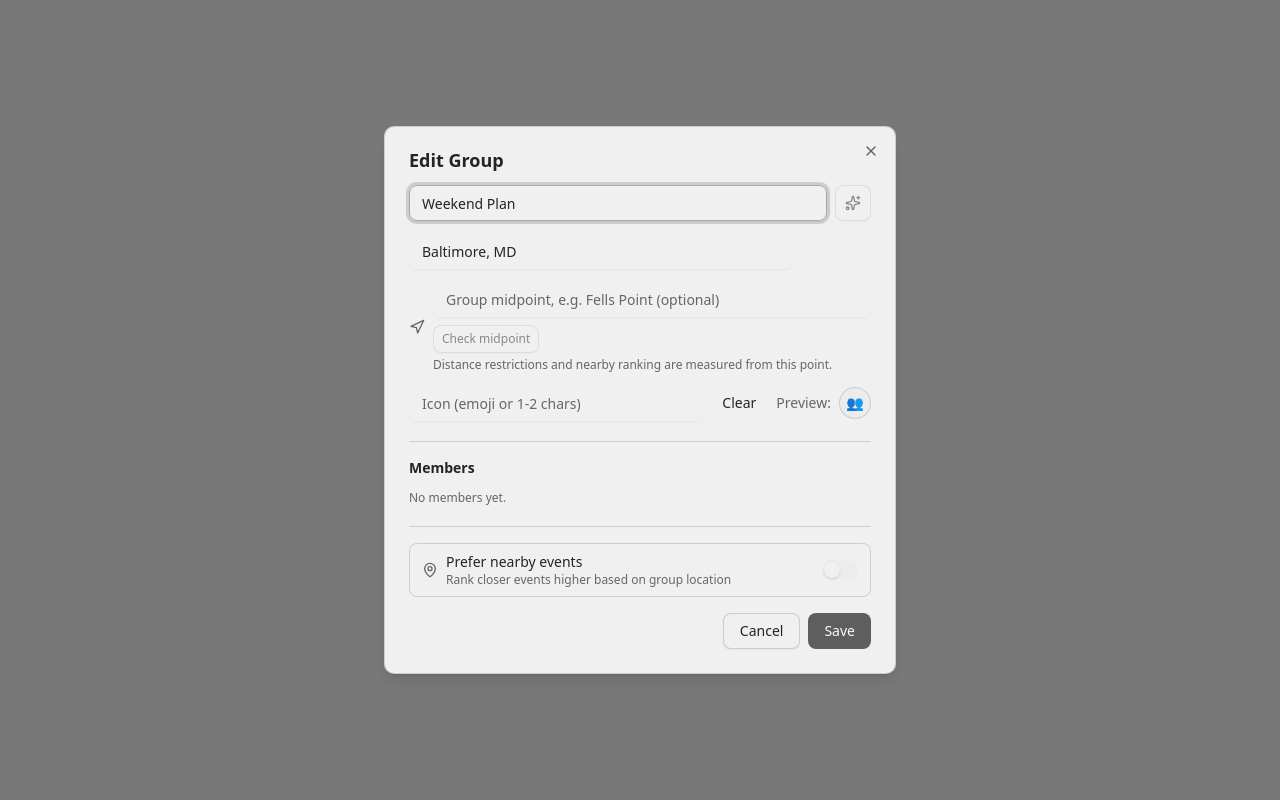
EditChatDialog › blocks saving a midpoint that cannot be geocoded
The width and height of the screenshot is (1280, 800).
In the field labelled "Group midpoint": [652, 299] box [433, 281, 871, 317], type "Not a real place"
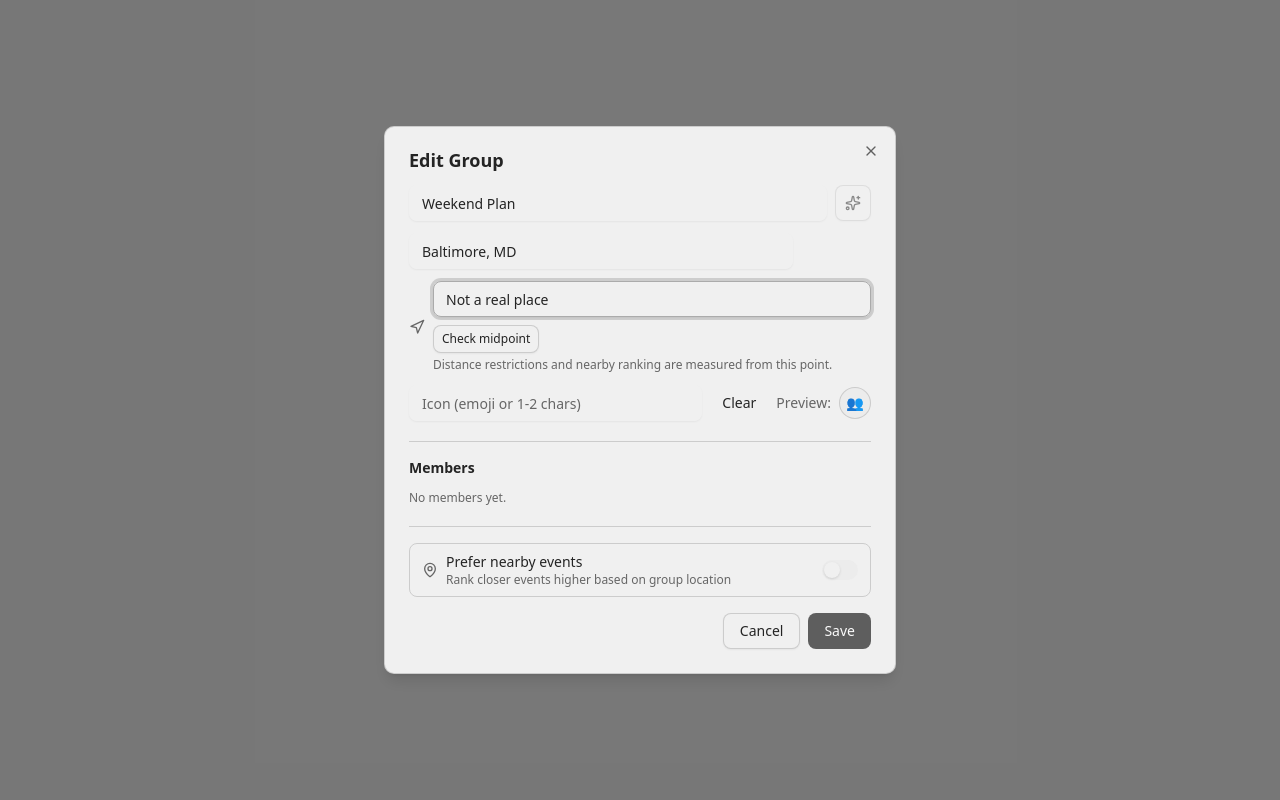
Click the button "Save": [840, 631] box [808, 613, 871, 649]
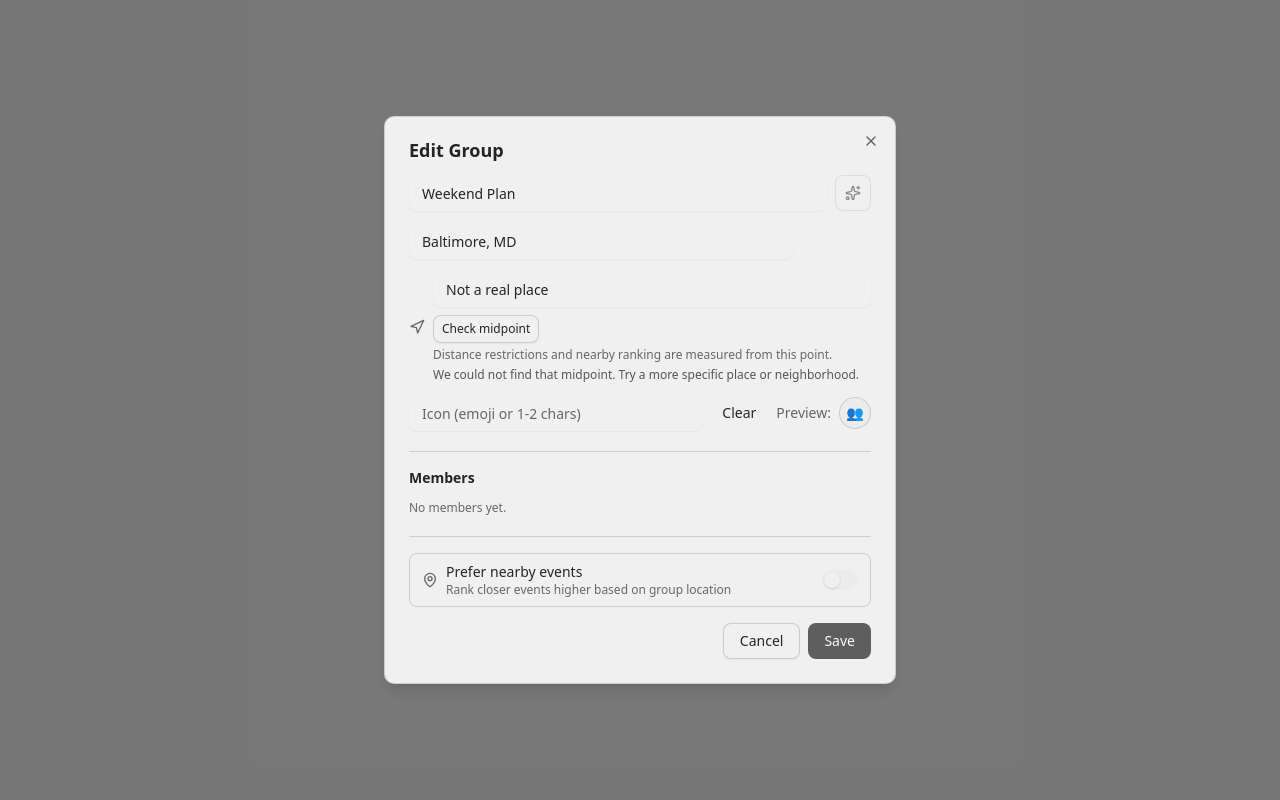
Now the text "We could not find that midpoint. Try a more specific place or neighborhood." is shown, box [433, 367, 871, 383]
